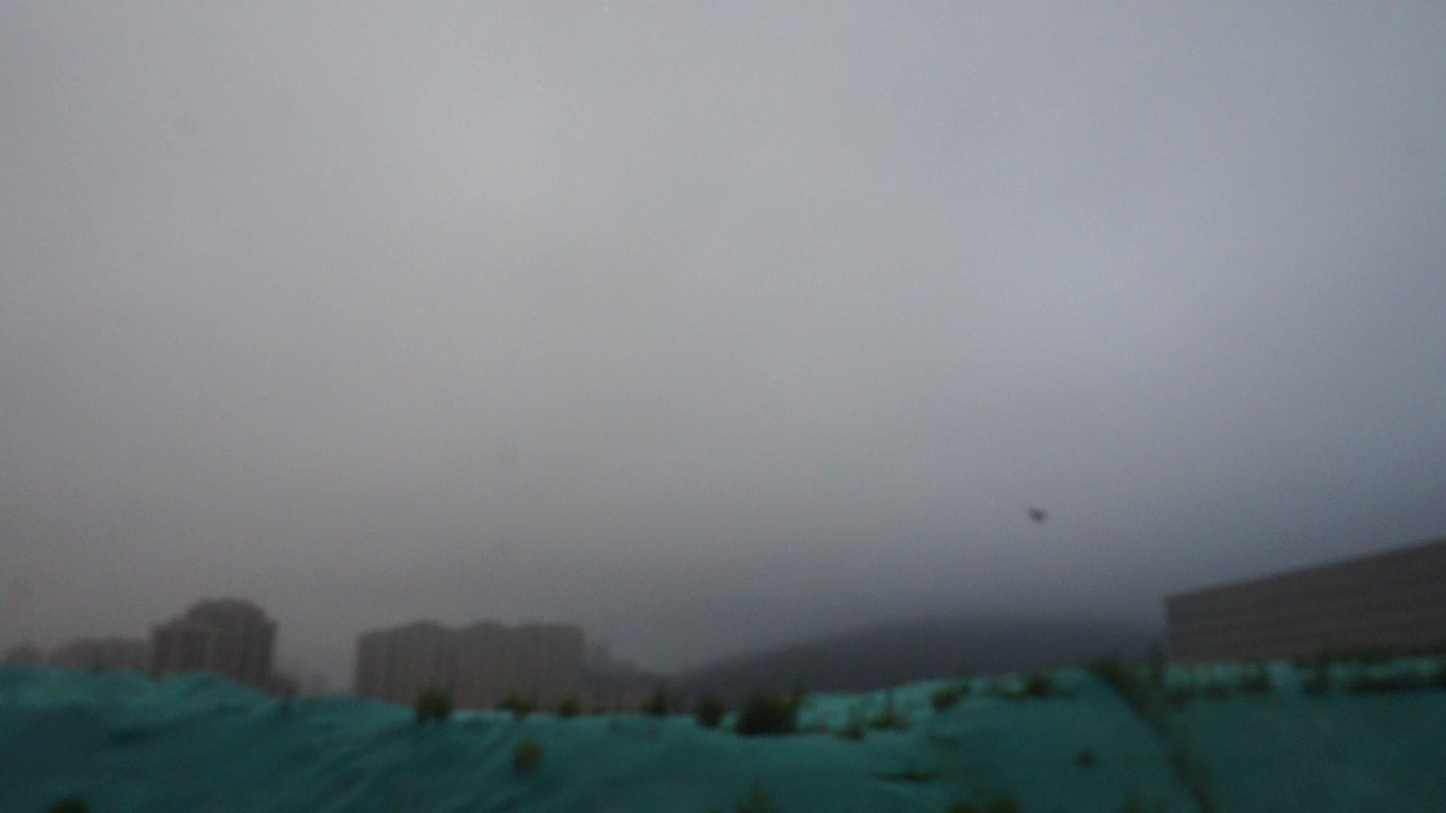UAV: (1027, 507, 1048, 524)
